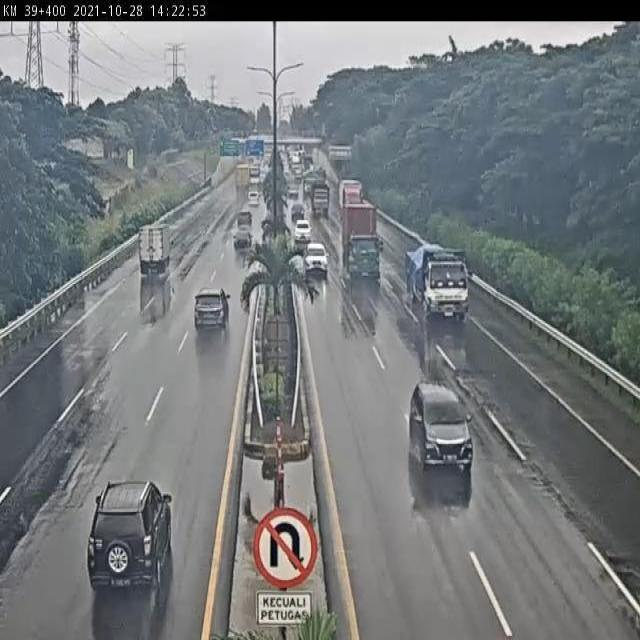ARABA: (85, 478, 173, 590)
KAMYONET: (140, 223, 175, 273)
TIR: (405, 244, 475, 324), (343, 204, 385, 284)
